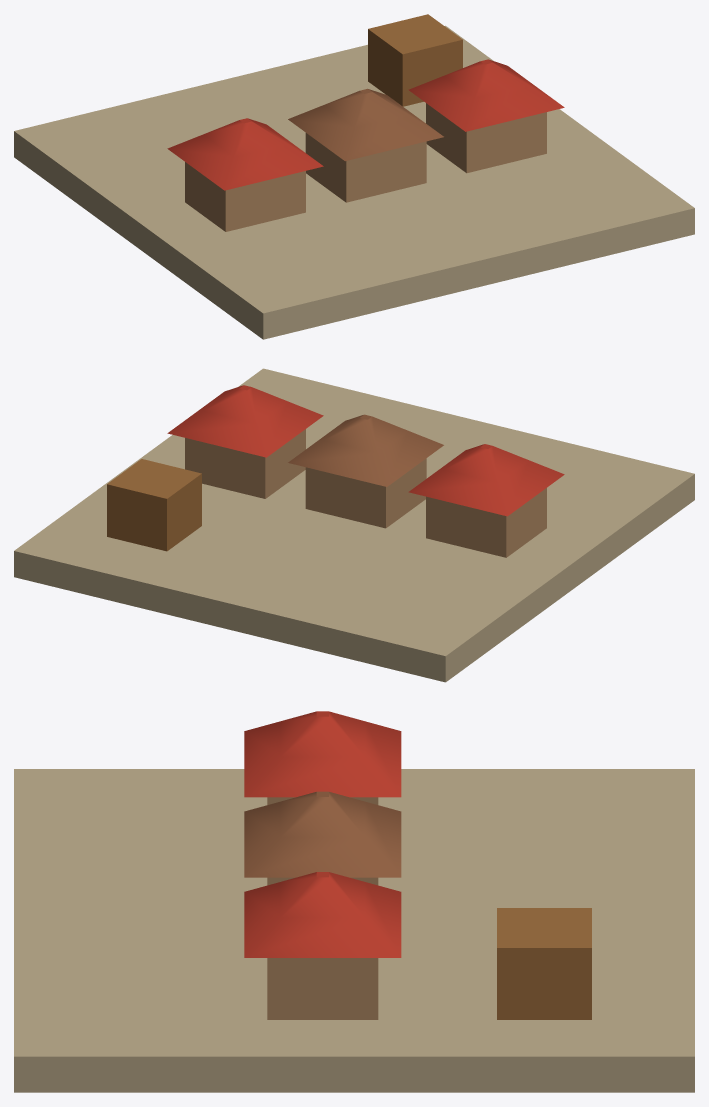
The model's file is shi_ji_qu.glb.
The picture shows the model from 3 angles, top to bottom: view 1: azimuth 30°, elevation 25°; view 2: azimuth 150°, elevation 25°; view 3: azimuth 270°, elevation 25°; orthographic projection. The views are drawn at different scales.
Visible parts, largest first — view 1: _MeshInstance3D_171, _MeshInstance3D_173, _MeshInstance3D_177, _MeshInstance3D_175, _MeshInstance3D_178, _MeshInstance3D_172, _MeshInstance3D_174, _MeshInstance3D_176; view 2: _MeshInstance3D_171, _MeshInstance3D_178, _MeshInstance3D_173, _MeshInstance3D_175, _MeshInstance3D_177, _MeshInstance3D_172, _MeshInstance3D_174, _MeshInstance3D_176; view 3: _MeshInstance3D_171, _MeshInstance3D_177, _MeshInstance3D_173, _MeshInstance3D_175, _MeshInstance3D_178, _MeshInstance3D_176.
Part boxes in pixels (box(x1,y1,x2,y2)): _MeshInstance3D_171: box(14, 25, 694, 339); _MeshInstance3D_173: box(167, 118, 323, 190); _MeshInstance3D_177: box(408, 59, 564, 131); _MeshInstance3D_175: box(288, 88, 443, 161); _MeshInstance3D_178: box(368, 14, 462, 106); _MeshInstance3D_172: box(185, 162, 305, 231); _MeshInstance3D_174: box(305, 133, 426, 202); _MeshInstance3D_176: box(426, 103, 546, 173); _MeshInstance3D_171: box(14, 368, 694, 682); _MeshInstance3D_178: box(107, 459, 201, 551); _MeshInstance3D_173: box(408, 444, 564, 516); _MeshInstance3D_175: box(288, 414, 443, 486); _MeshInstance3D_177: box(167, 385, 323, 457); _MeshInstance3D_172: box(426, 488, 546, 557); _MeshInstance3D_174: box(305, 458, 426, 528); _MeshInstance3D_176: box(185, 429, 305, 498); _MeshInstance3D_171: box(14, 769, 694, 1092); _MeshInstance3D_177: box(244, 872, 401, 957); _MeshInstance3D_173: box(244, 711, 401, 797); _MeshInstance3D_175: box(244, 791, 401, 877); _MeshInstance3D_178: box(497, 908, 591, 1019); _MeshInstance3D_176: box(267, 958, 378, 1019).
Bounding box in the file's own units: 0.86 × 0.215 × 0.86.
